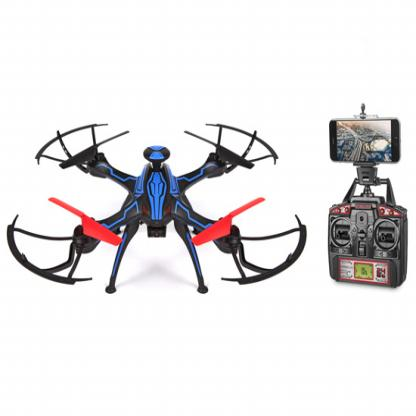drone: (6, 112, 312, 308)
